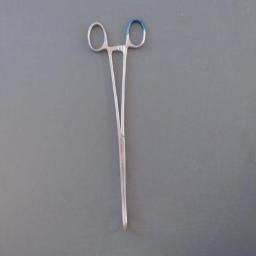Sponge Forceps: (83, 14, 151, 236)
